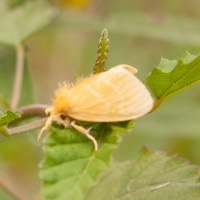insect: (38, 64, 154, 149)
